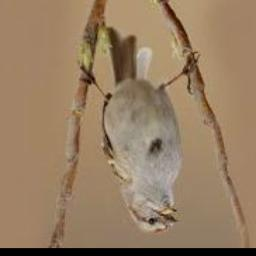Sparrow: (80, 28, 200, 233)
